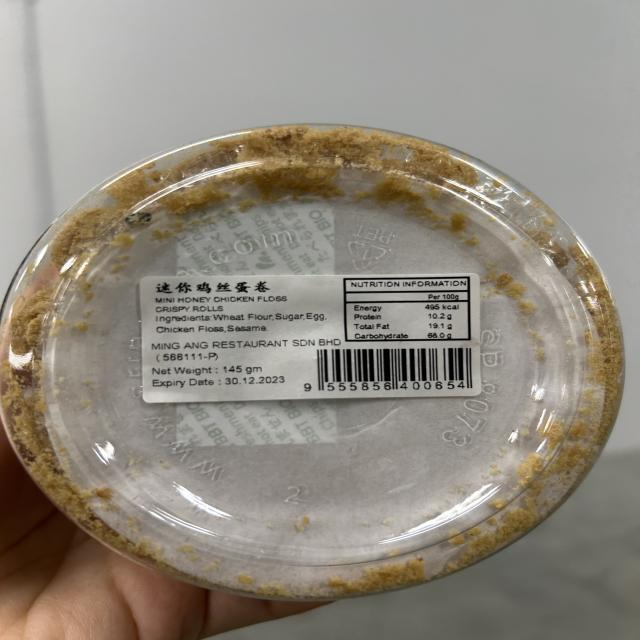object_name: (62, 178, 568, 539)
